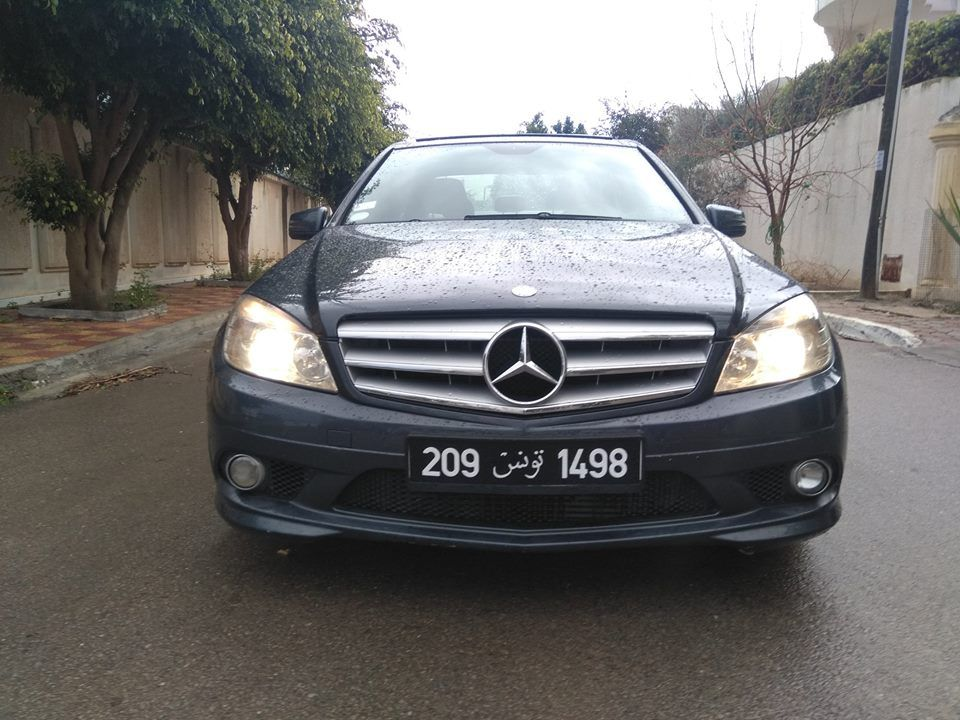LP: (405, 432, 646, 487)
